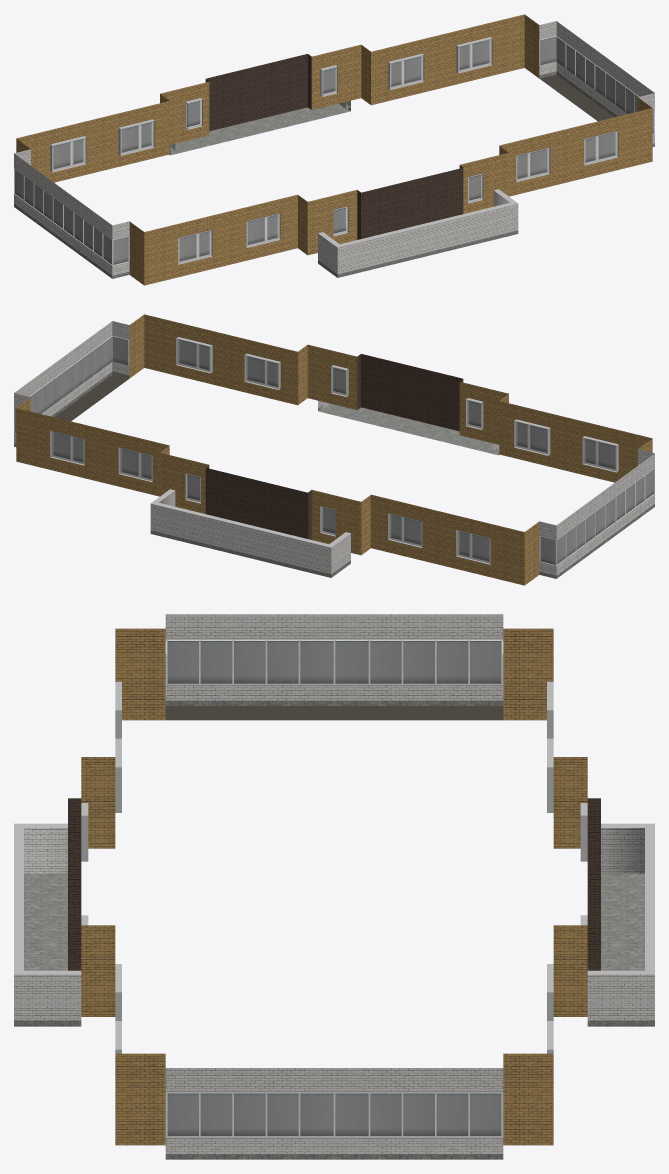
Rendered from Building_1.fbx.
3 renders of one model, top to bottom at view 1: azimuth 30°, elevation 25°; view 2: azimuth 150°, elevation 25°; view 3: azimuth 270°, elevation 25°, orthographic. The views are drawn at different scales.
Parts seen in each view (by area): view 1: Building_1; view 2: Building_1; view 3: Building_1.
Part boxes in pixels (bbox=[...]): Building_1: bbox=[14, 14, 654, 285]; Building_1: bbox=[14, 314, 654, 585]; Building_1: bbox=[14, 614, 654, 1159].
Bounding box in the file's own units: 3180 × 360 × 1900.
